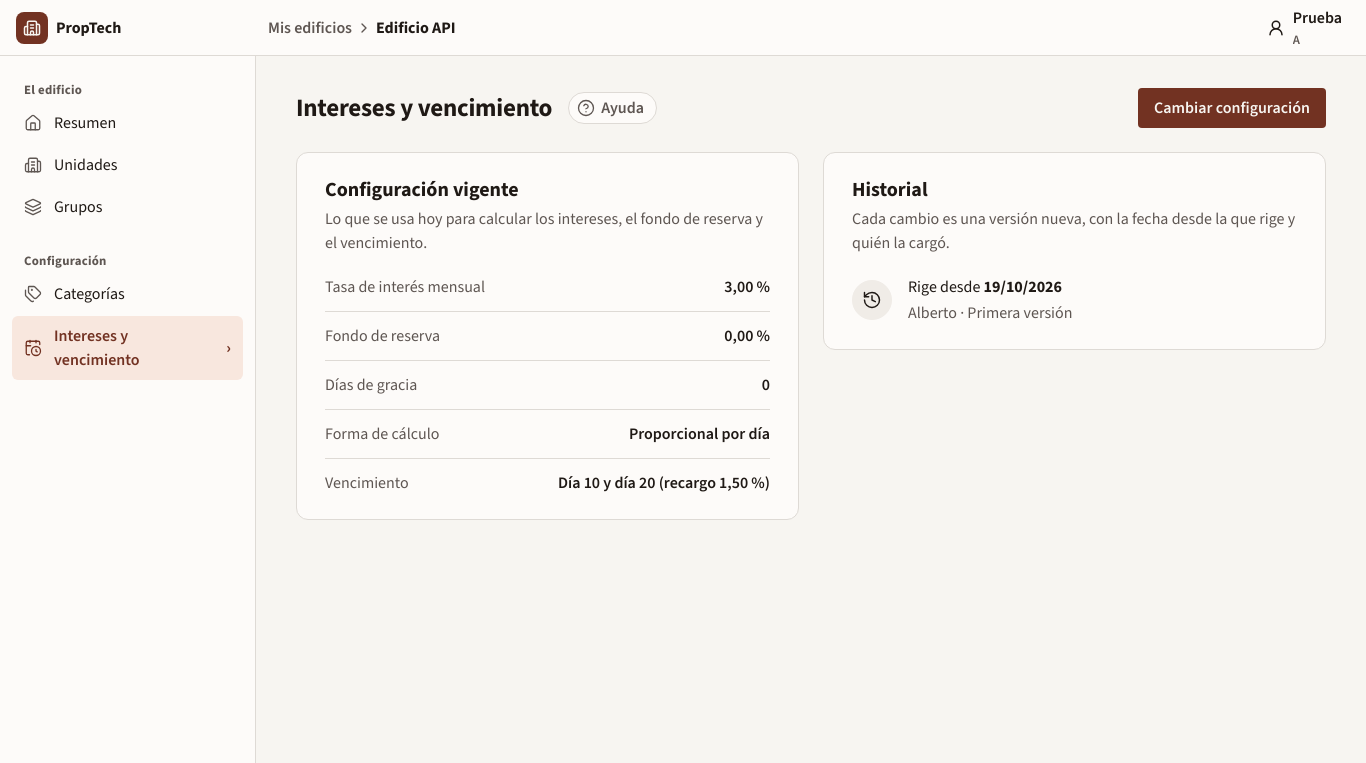
Test: escenario "Día 31": con Segundo vencimiento=31 fuera de rango marca sólo ese campo
Click the button "Cambiar configuración" at (1232, 108), box x1=1138 y1=88 x2=1326 y2=128
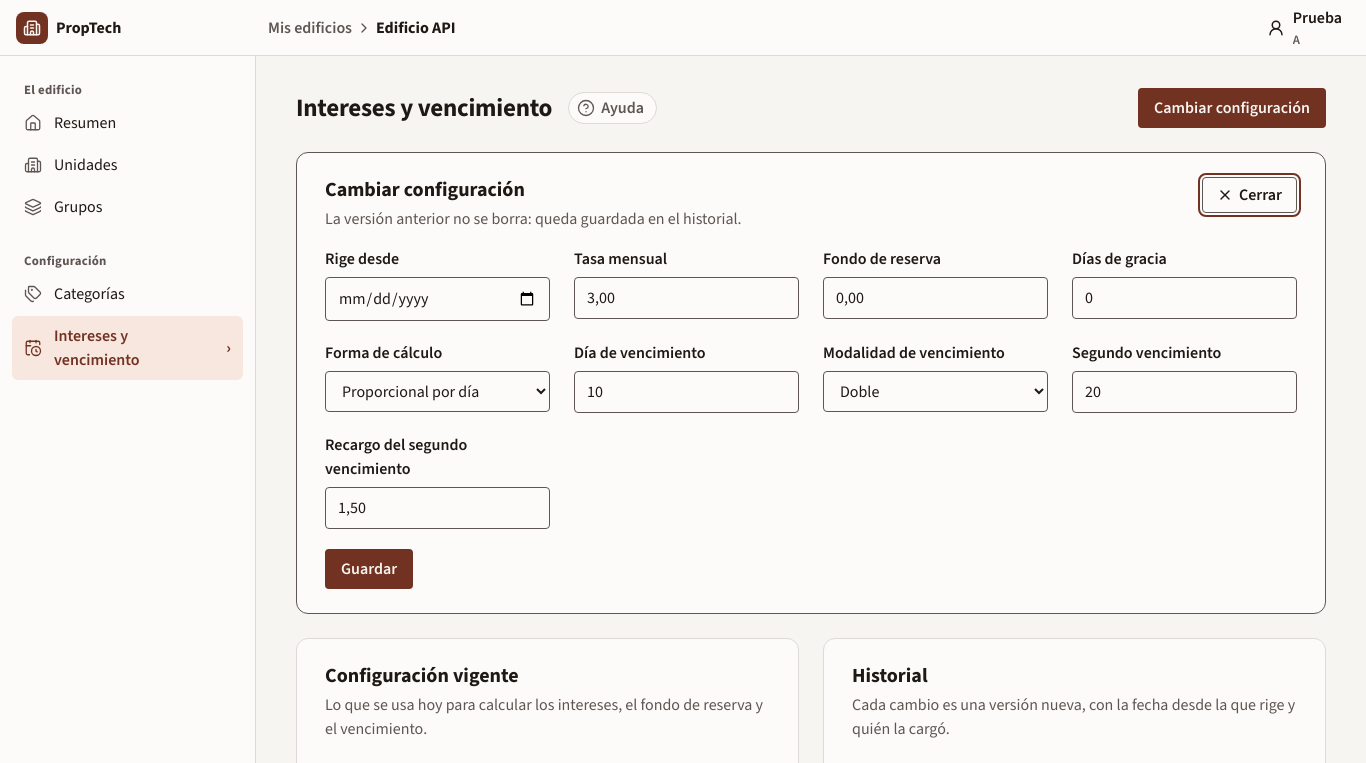
Type "2099-01-01" into the date field labelled "Rige desde" at (438, 299), box x1=325 y1=277 x2=550 y2=321
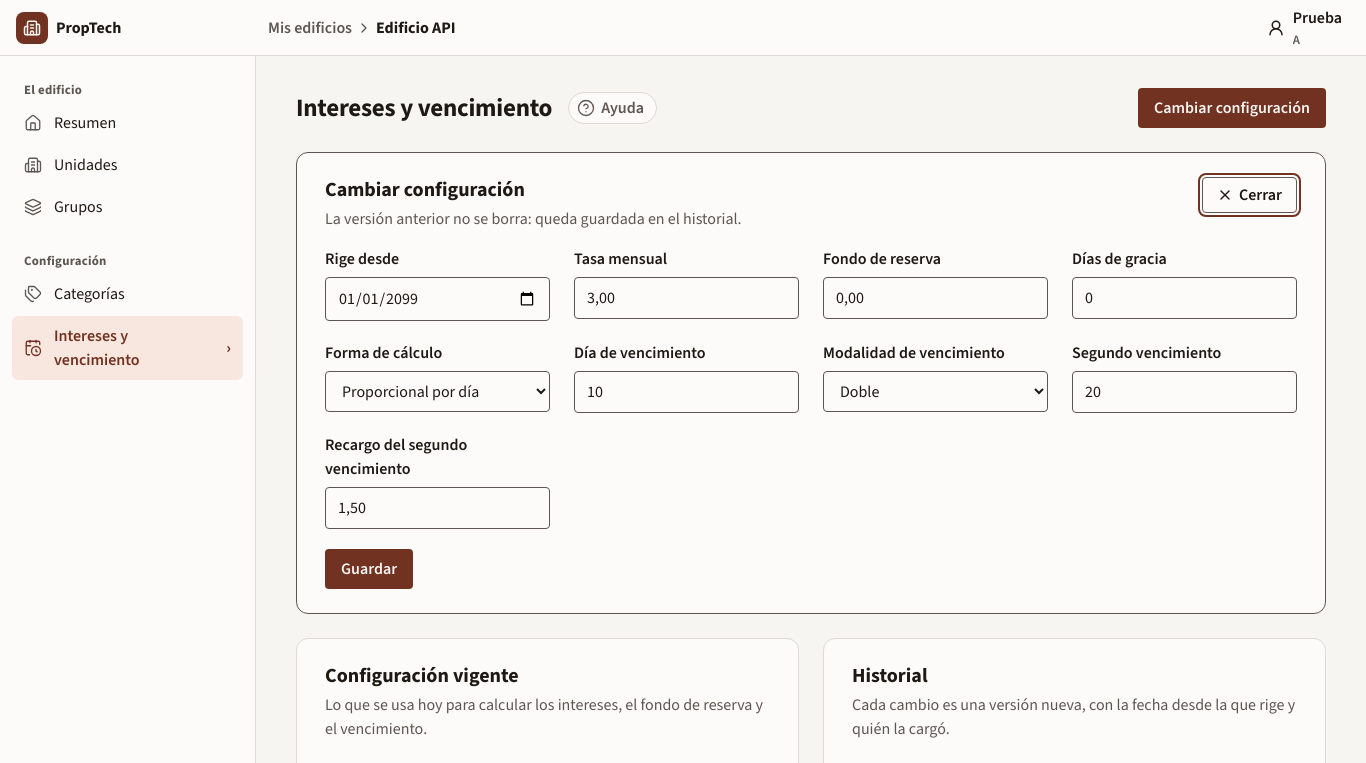
Replace the text in the number field labelled "Segundo vencimiento" with "31" at (1184, 392), box x1=1072 y1=371 x2=1297 y2=413
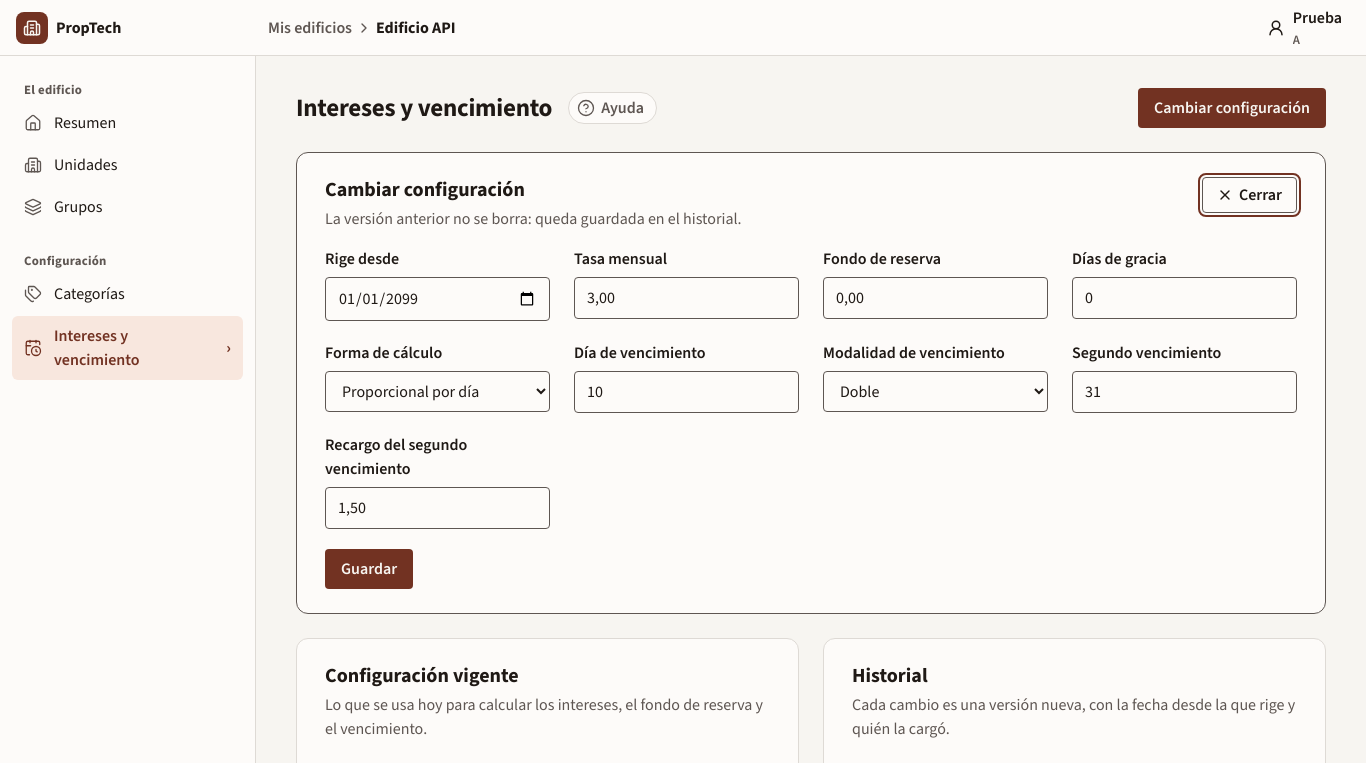
Submit the form named "Segundo vencimiento", box x1=325 y1=247 x2=1297 y2=589
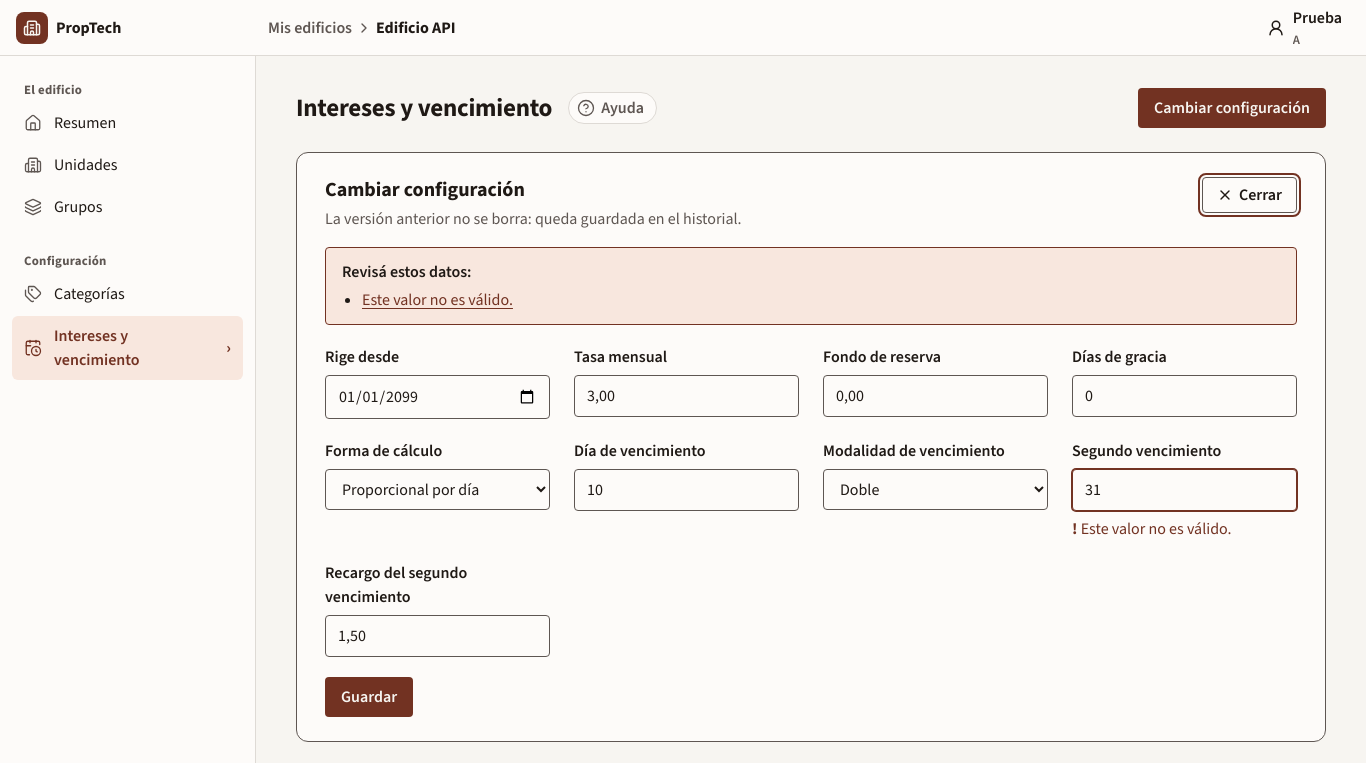
Result: the text "Este valor no es válido." is shown at x1=1081 y1=518 x2=1232 y2=539
